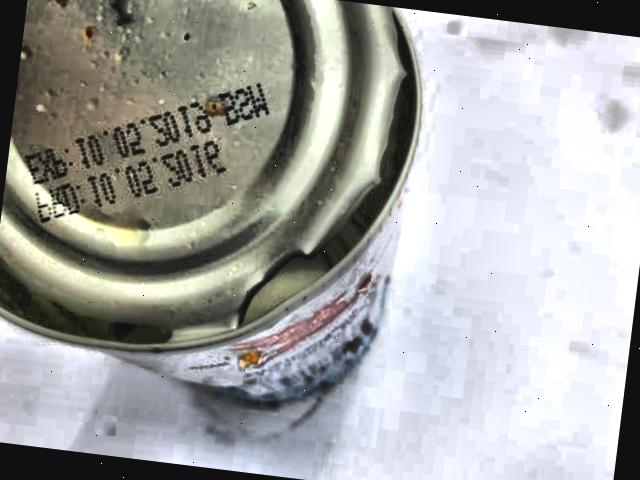Almennt: (0, 0, 468, 437)
